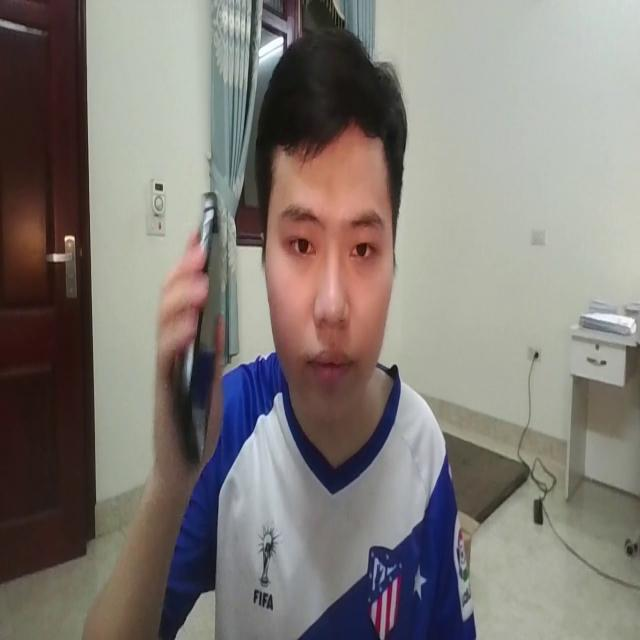phone: (169, 171, 256, 475)
student: (118, 26, 490, 640)
